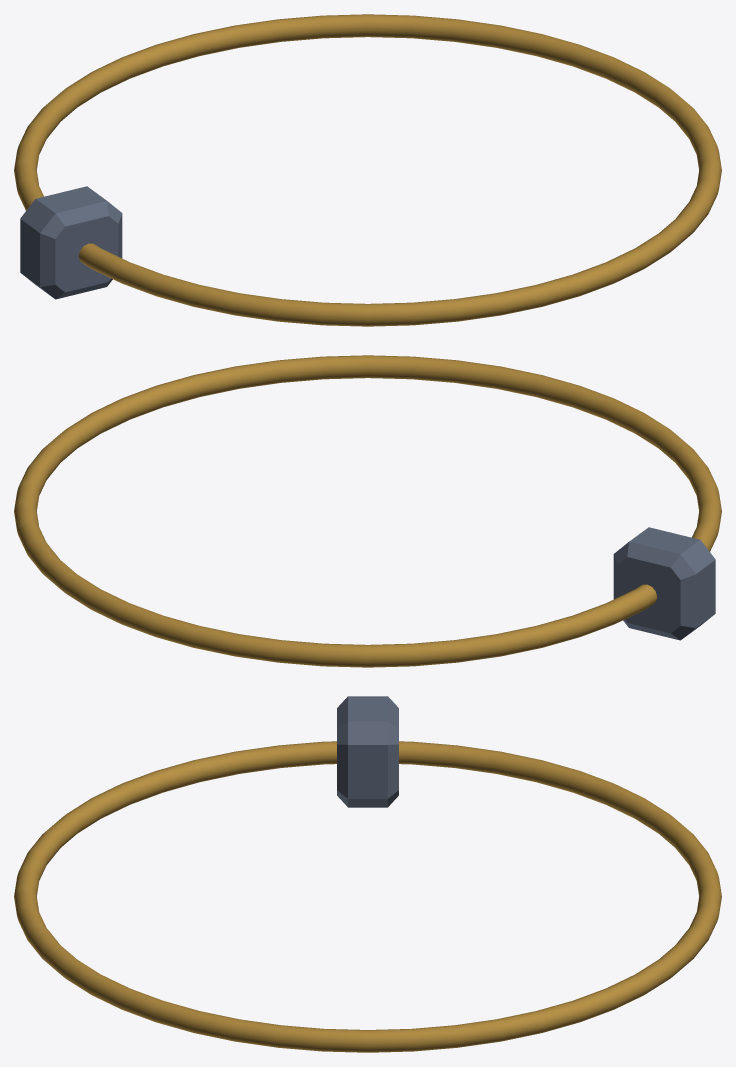
The model's file is tower_arc_rate_s2.glb.
3 views of the same model, one above another, from view 1: azimuth 30°, elevation 25°; view 2: azimuth 150°, elevation 25°; view 3: azimuth 270°, elevation 25° (orthographic).
Parts seen in each view (by area): view 1: arc_coolant_loop, arc_coolant_pump; view 2: arc_coolant_loop, arc_coolant_pump; view 3: arc_coolant_loop, arc_coolant_pump.
Boxes of the visible parts, x1,y1,x2,y2 form: arc_coolant_loop: (14, 14, 721, 326); arc_coolant_pump: (20, 186, 122, 299); arc_coolant_loop: (14, 355, 721, 667); arc_coolant_pump: (613, 527, 715, 640); arc_coolant_loop: (14, 741, 721, 1052); arc_coolant_pump: (337, 696, 398, 807).
Size of the model in its own units: 1.43 by 0.1832 by 1.36.
